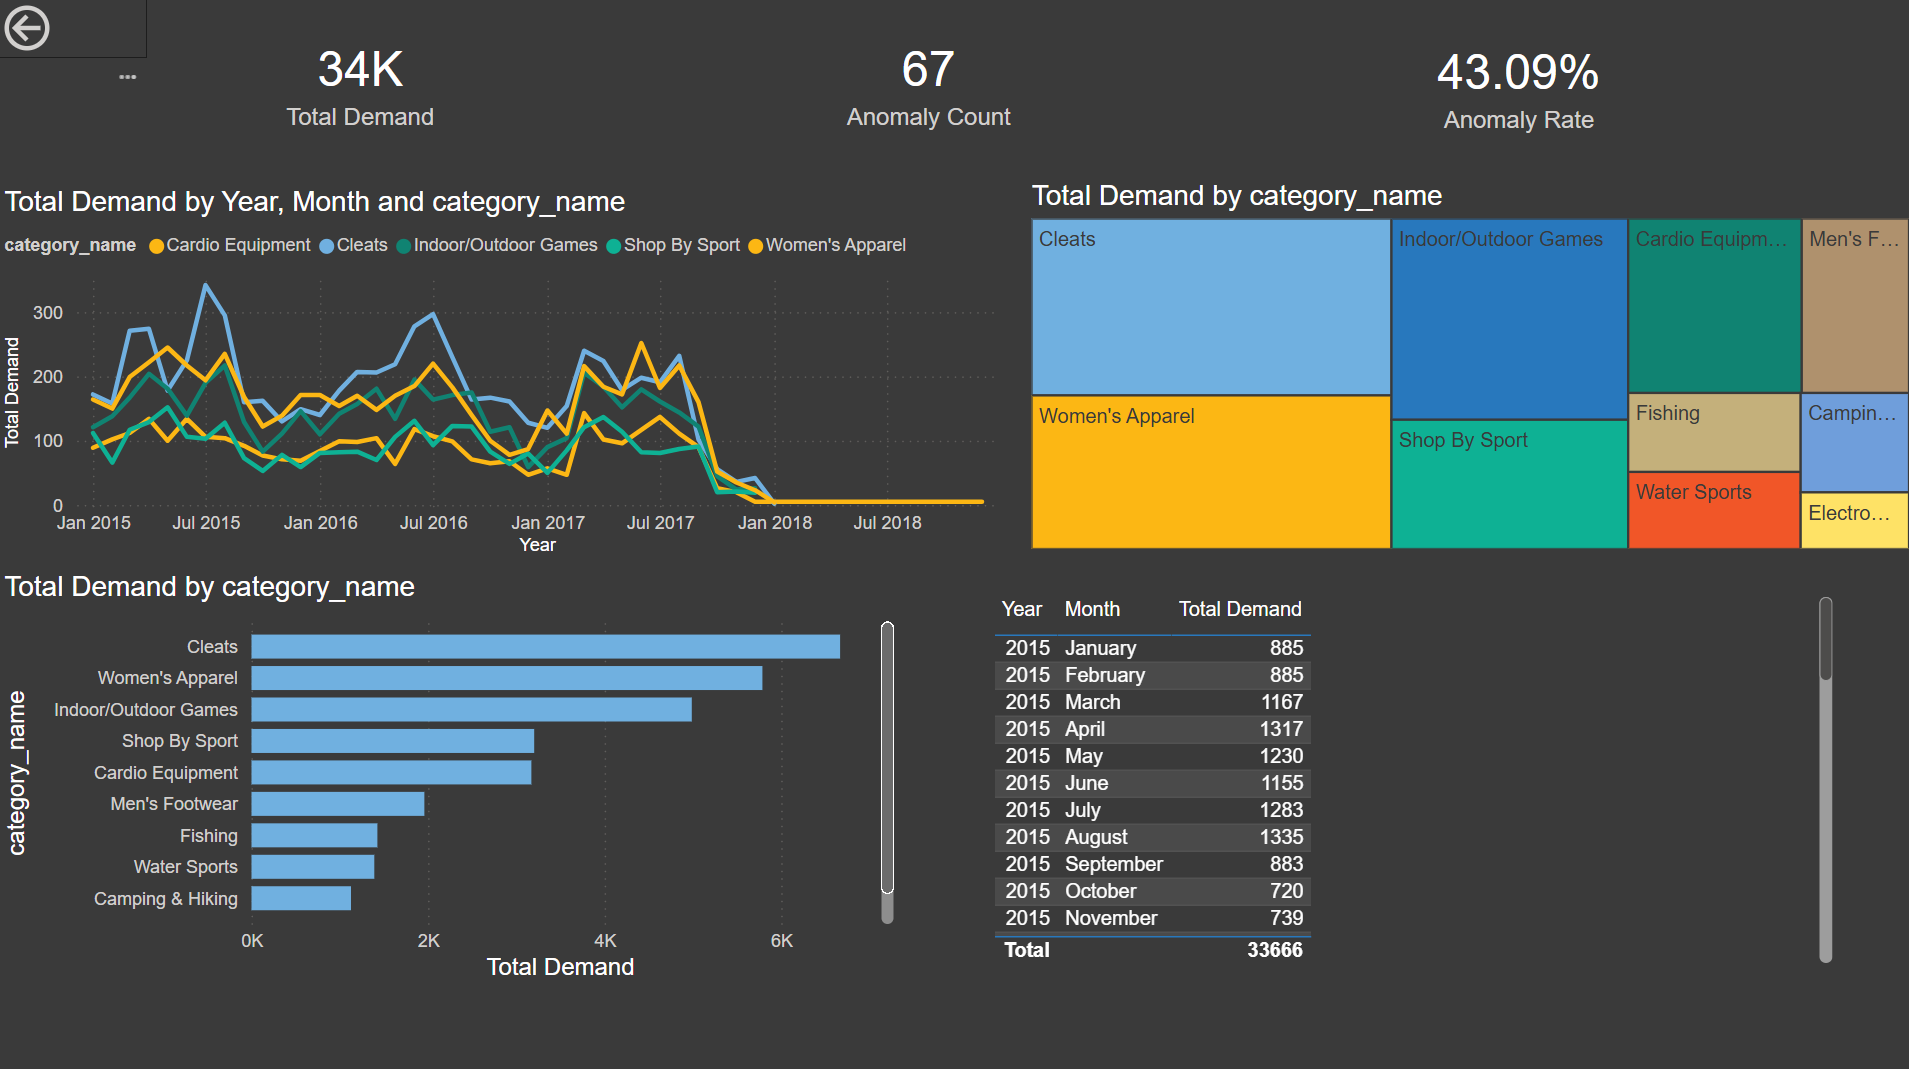

This screenshot's page, from the dashboard's own definition file:
{"tool":"powerbi","page":{"name":"Executive Summary","canvas":[1280,720],"ordinal":0},"visuals":[{"type":"card","fields":{"Values":["cleaned_data.Total Demand"]},"box":[49.8,2.2,384.7,105.3],"z":0},{"type":"card","fields":{"Values":["cleaned_data.Anomaly Count"]},"box":[459.2,9,324.8,91.8],"z":1000},{"type":"lineChart","fields":{"Y":["cleaned_data.Total Demand"],"Series":["cleaned_data.category_name"],"Category":["cleaned_data.order_date.Variation.Date Hierarchy.Year","cleaned_data.order_date.Variation.Date Hierarchy.Month"]},"box":[0,125.4,684.9,250.3],"z":3000},{"type":"card","fields":{"Values":["cleaned_data.Anomaly Rate"]},"box":[805.8,12.9,417.7,87.9],"z":3001},{"type":"clusteredBarChart","fields":{"Category":["cleaned_data.category_name"],"Y":["cleaned_data.Total Demand"]},"box":[0,382.5,602.5,276.6],"z":3002},{"type":"actionButton","box":[0,0,100,40],"z":3004},{"type":"tableEx","fields":{"Values":["cleaned_data.order_date.Variation.Date Hierarchy.Year","cleaned_data.order_date.Variation.Date Hierarchy.Month","cleaned_data.Total Demand"]},"box":[658.5,393.7,570.6,254.2],"z":3006},{"type":"treemap","fields":{"Group":["cleaned_data.category_name"],"Values":["cleaned_data.Total Demand"]},"box":[684.9,121,595.3,250.9],"z":3007}]}

Visuals, with their boxes on the page's 1280x720 design canvas (x1, y1, x2, y2). These are canvas units, not pixel positions in the 1909x1069 screenshot, which may show the page scaled, cropped or inside an application window:
card - cleaned_data.Total Demand: x1=50, y1=2, x2=434, y2=108
card - cleaned_data.Anomaly Count: x1=459, y1=9, x2=784, y2=101
lineChart - cleaned_data.Total Demand x cleaned_data.category_name: x1=0, y1=125, x2=685, y2=376
card - cleaned_data.Anomaly Rate: x1=806, y1=13, x2=1224, y2=101
clusteredBarChart - cleaned_data.category_name x cleaned_data.Total Demand: x1=0, y1=382, x2=602, y2=659
actionButton: x1=0, y1=0, x2=100, y2=40
tableEx - cleaned_data.order_date.Variation.Date Hierarchy.Year x cleaned_data.order_date.Variation.Date Hierarchy.Month: x1=658, y1=394, x2=1229, y2=648
treemap - cleaned_data.category_name x cleaned_data.Total Demand: x1=685, y1=121, x2=1280, y2=372
